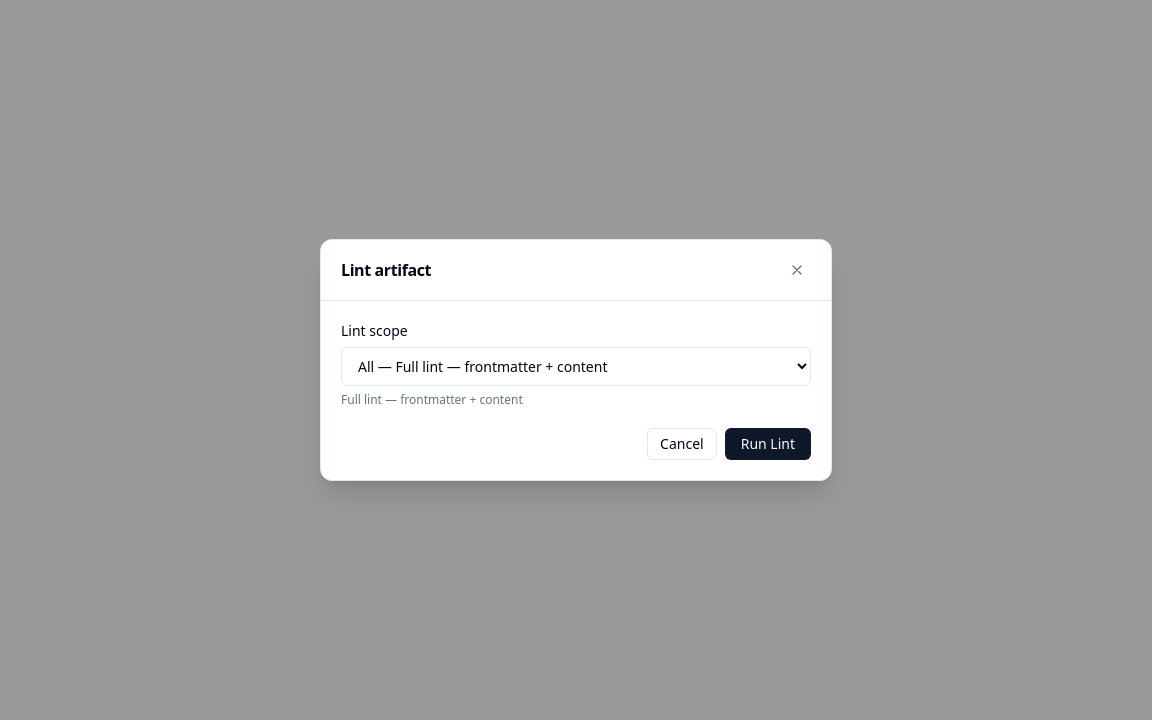
Test: LintScopeModal (P2-S1 seam test) › Success path — results panel › renders the overall severity badge after a successful run
Step 1. Click the button "Run Lint" → click(768, 444), box x1=725 y1=428 x2=811 y2=460
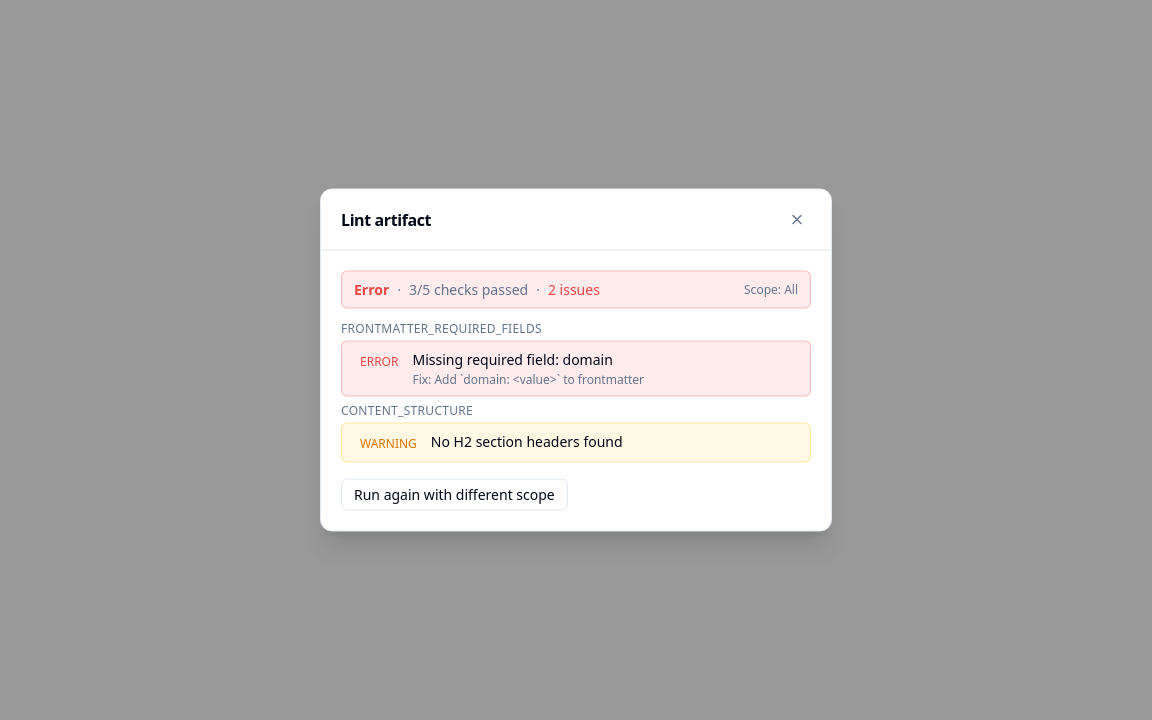
Now the button "Run again with different scope" is shown, box x1=341 y1=478 x2=568 y2=510
Now the element named "lint result: error" is shown, box x1=341 y1=270 x2=811 y2=308
